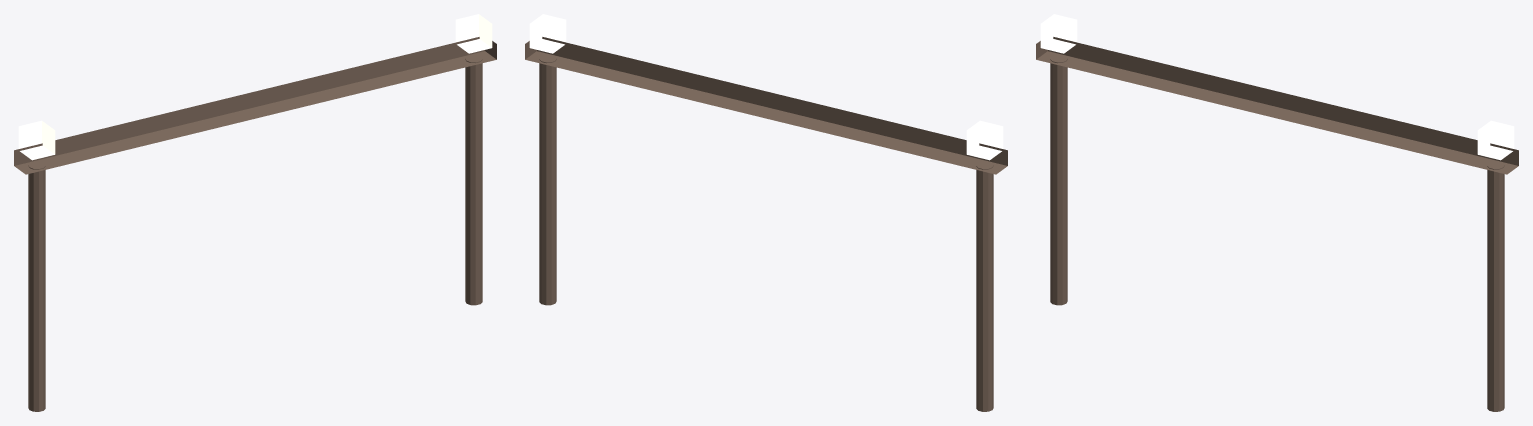
Rendered from gateway.glb.
The picture shows the model from 3 angles, left to right: view 1: azimuth 30°, elevation 25°; view 2: azimuth 150°, elevation 25°; view 3: azimuth 330°, elevation 25°; orthographic projection.
Parts seen in each view (by area): view 1: wood, lights; view 2: wood, lights; view 3: wood, lights.
Boxes of the visible parts, x1,y1,x2,y2 form: wood: (14,37,496,411); lights: (18,14,492,160); wood: (525,37,1007,411); lights: (529,14,1003,160); wood: (1036,37,1518,411); lights: (1040,14,1514,160).
Bounding box in the file's own units: 6.9 × 3.92 × 0.34.
